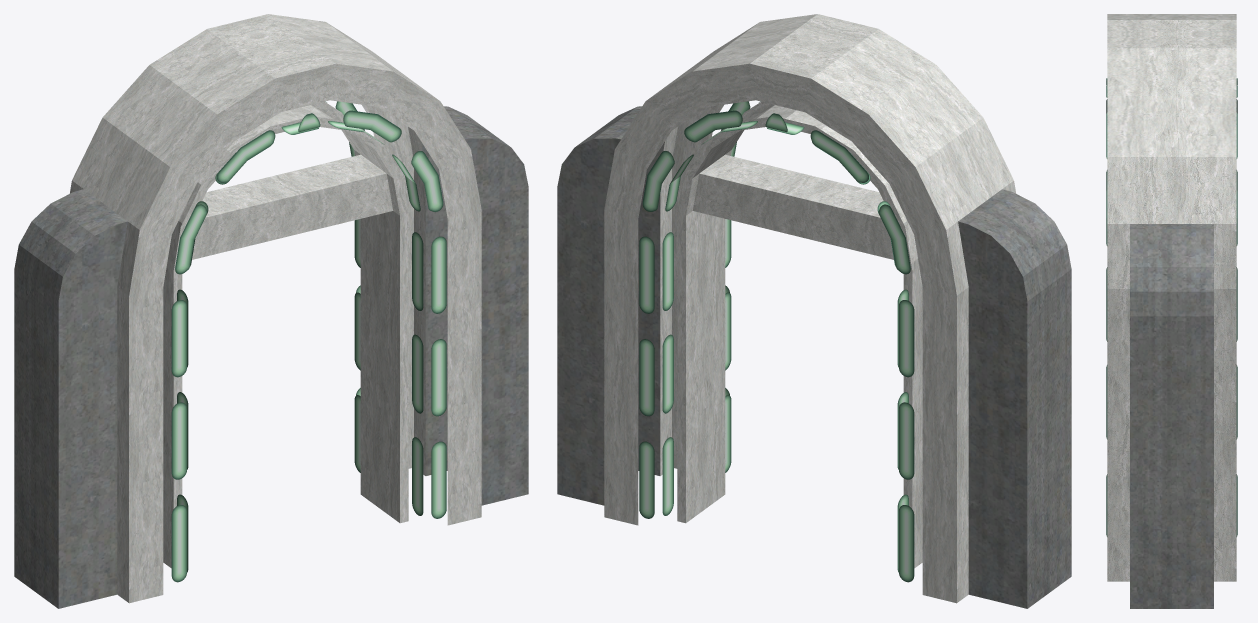
File: thm_corl_imprv_gate_sm_s01_l0.fbx
The picture shows the model from 3 angles, left to right: view 1: azimuth 30°, elevation 25°; view 2: azimuth 150°, elevation 25°; view 3: azimuth 270°, elevation 25°; orthographic projection. The views are drawn at different scales.
Visible parts, largest first — view 1: mesh_node; view 2: mesh_node; view 3: mesh_node.
Boxes of the visible parts, x1=… form: mesh_node: x1=14, y1=14, x2=528, y2=608; mesh_node: x1=557, y1=14, x2=1071, y2=608; mesh_node: x1=1106, y1=14, x2=1237, y2=608.
Size of the model in its own units: 8 by 7.95 by 2.23.
